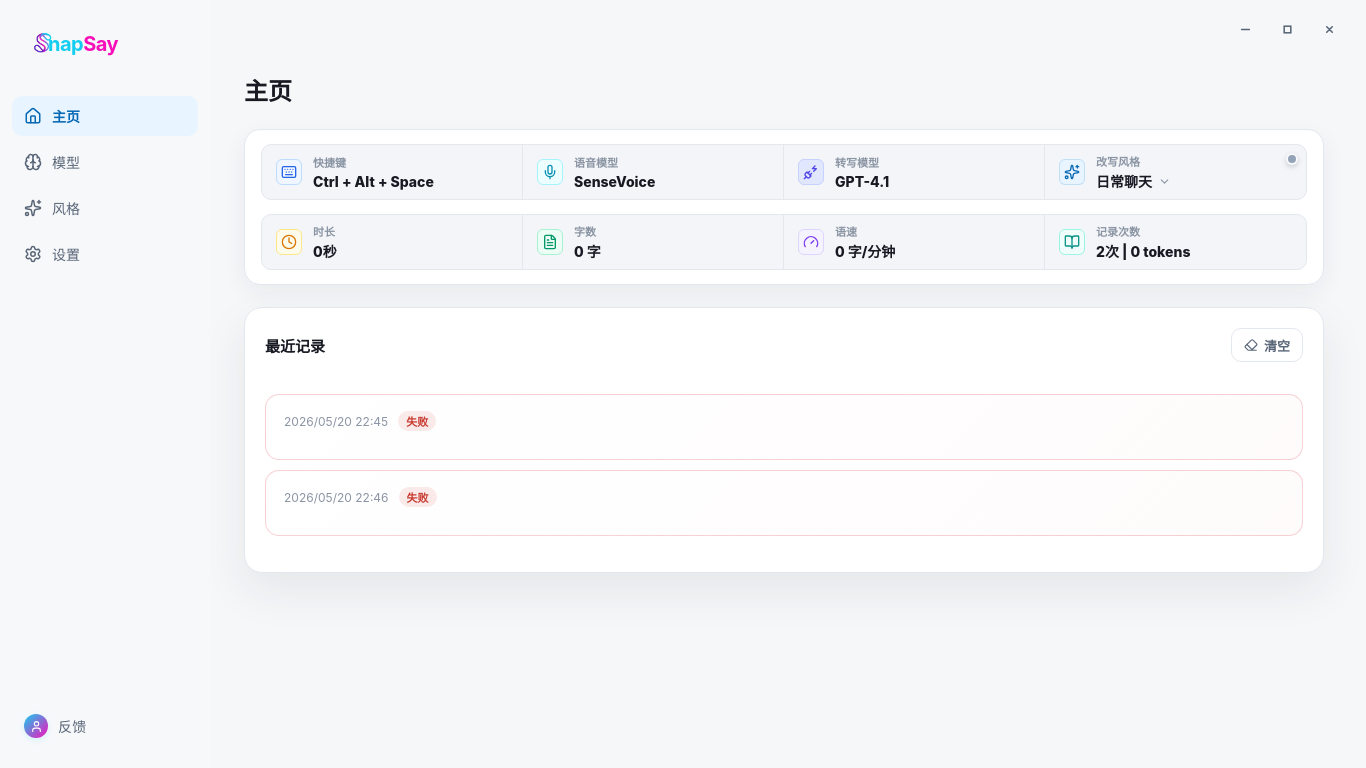
Test: SnapSay main renderer › renders diagnostic logs at the bottom of settings for failed records
Expected: the text "失败" is shown 2 times, [398, 411, 436, 431]; [398, 487, 436, 507]
Expected: the text "时长" is shown, [313, 225, 335, 239]
Click the button "设置": (105, 254) [12, 234, 198, 274]
(page scrolled)
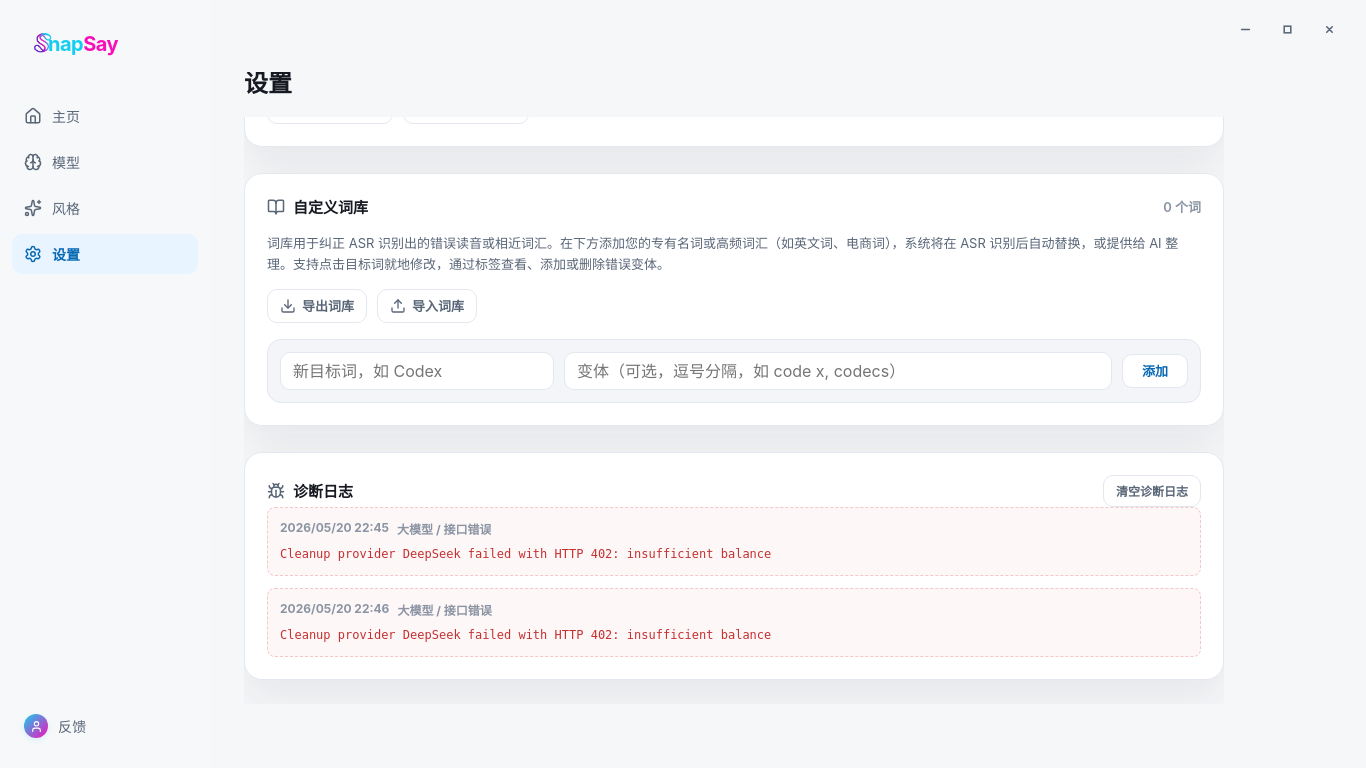
Expected: the text "2026/05/20 22:45" is shown, [280, 520, 389, 537]
Now the text "大模型 / 接口错误" is shown 2 times, box [397, 520, 491, 537]; [397, 601, 492, 618]
Now the text "Cleanup provider DeepSeek failed with HTTP 402: insufficient balance" is shown 2 times, box [280, 547, 771, 561]; [280, 628, 771, 642]
